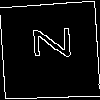Z: (24, 25, 70, 60)
